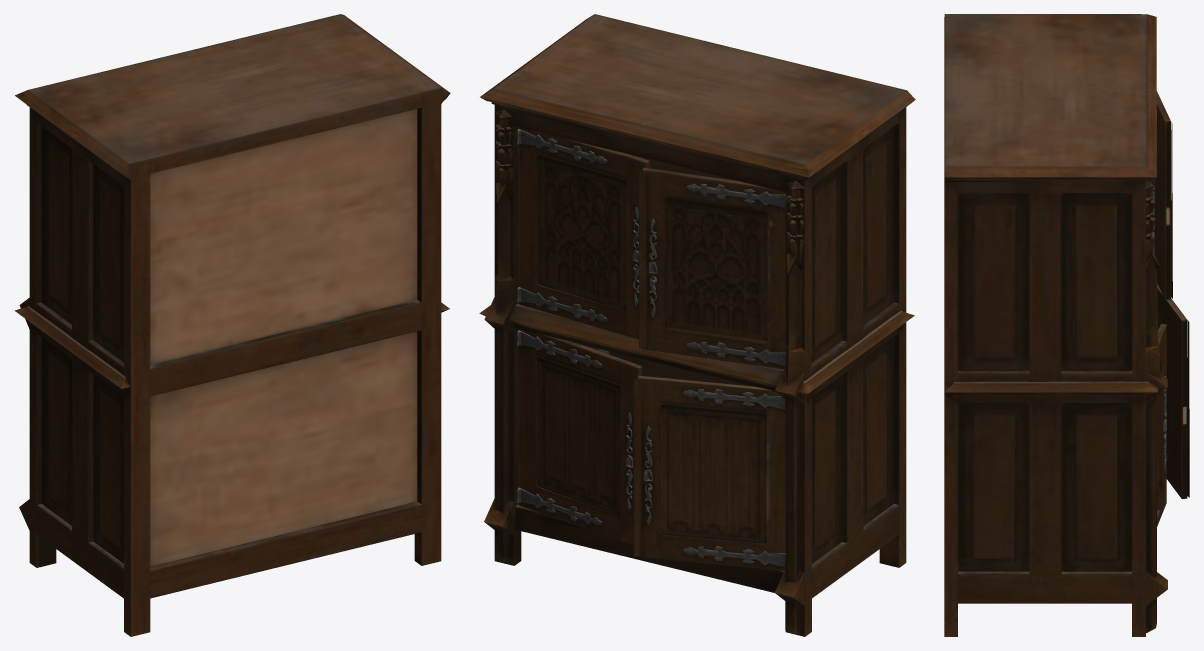
Rendered from cabinet-gothic.lod1.glb.
The picture shows the model from 3 angles, left to right: view 1: azimuth 30°, elevation 25°; view 2: azimuth 150°, elevation 25°; view 3: azimuth 270°, elevation 25°; orthographic projection.
Visible parts, largest first — view 1: cabinet-gothic; view 2: cabinet-gothic; view 3: cabinet-gothic.
Boxes of the visible parts, x1,y1,x2,y2 form: cabinet-gothic: (14,14,450,636); cabinet-gothic: (479,14,915,636); cabinet-gothic: (944,14,1189,636).
Bounding box in the file's own units: 1.72 × 2.36 × 1.11.
Materials: 1 (1 with a texture image).
